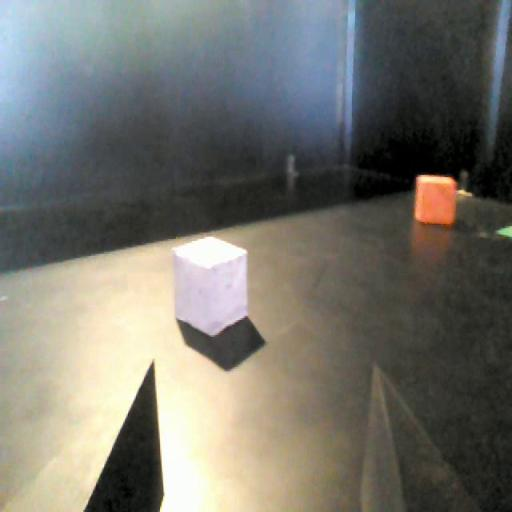cube: (169, 229, 254, 339), (414, 166, 458, 233)
